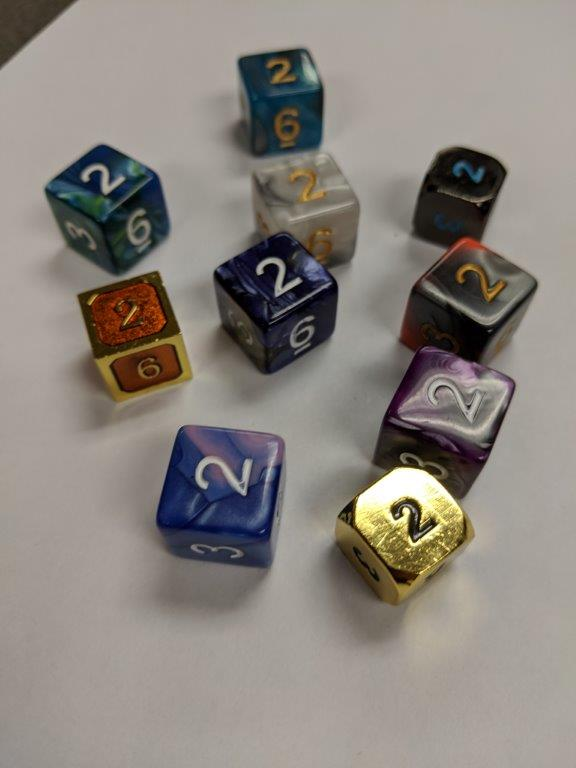d6-2: (371, 346, 515, 501), (152, 423, 285, 572), (397, 236, 538, 375), (335, 467, 473, 605), (215, 232, 337, 375), (41, 143, 171, 276), (77, 268, 192, 402), (252, 150, 356, 270), (408, 145, 509, 242), (236, 48, 326, 151)
